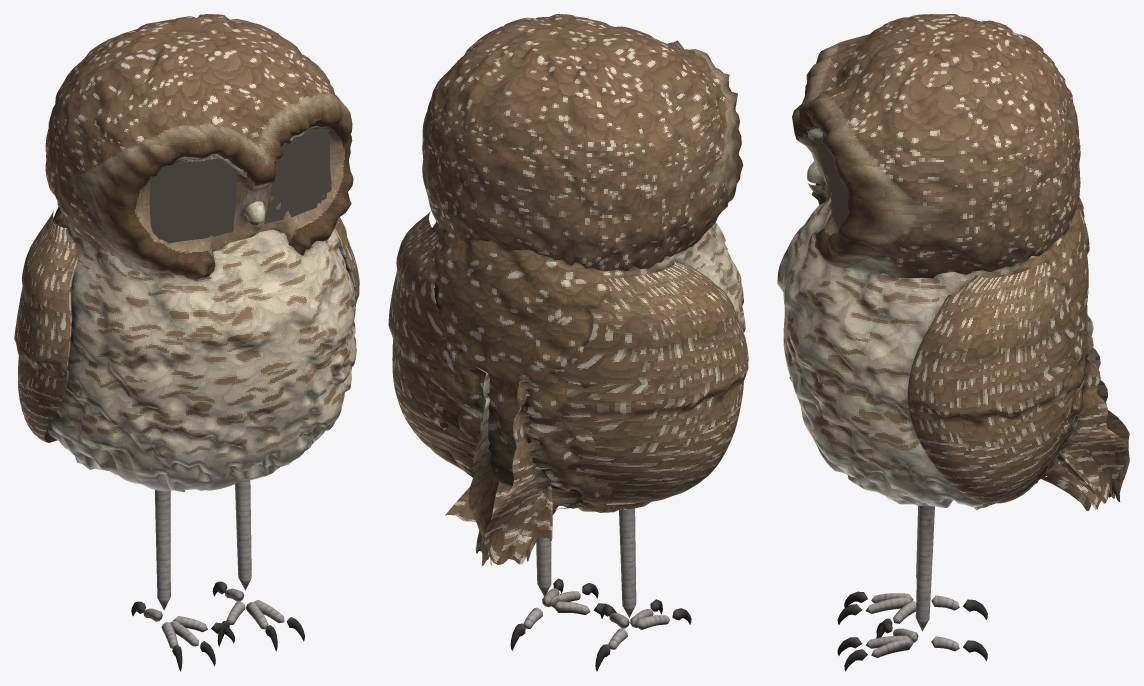
File: burrowing.glb
3 renders of one model, left to right at view 1: azimuth 30°, elevation 25°; view 2: azimuth 150°, elevation 25°; view 3: azimuth 270°, elevation 25°, orthographic. The views are drawn at different scales.
Parts seen in each view (by area): view 1: body_mesh, head_mesh, wing_l_mesh, eye_l, eye_r, leg_l_mesh, leg_r_mesh, wing_r_mesh; view 2: head_mesh, wing_l_mesh, body_mesh, wing_r_mesh, tail_mesh, leg_l_mesh, leg_r_mesh; view 3: head_mesh, wing_r_mesh, body_mesh, leg_r_mesh, eye_r, wing_l_mesh.
Part boxes in pixels (bbox=[...]): body_mesh: bbox=[47, 207, 356, 491]; head_mesh: bbox=[45, 14, 353, 279]; wing_l_mesh: bbox=[14, 210, 77, 442]; eye_l: bbox=[149, 159, 237, 243]; eye_r: bbox=[264, 128, 331, 223]; leg_l_mesh: bbox=[155, 490, 170, 610]; leg_r_mesh: bbox=[235, 478, 251, 590]; wing_r_mesh: bbox=[334, 217, 359, 318]; head_mesh: bbox=[422, 14, 743, 270]; wing_l_mesh: bbox=[481, 260, 748, 566]; body_mesh: bbox=[424, 221, 745, 512]; wing_r_mesh: bbox=[388, 211, 498, 565]; tail_mesh: bbox=[445, 482, 552, 541]; leg_l_mesh: bbox=[619, 508, 636, 617]; leg_r_mesh: bbox=[536, 537, 551, 596]; head_mesh: bbox=[792, 14, 1080, 278]; wing_r_mesh: bbox=[907, 263, 1127, 510]; body_mesh: bbox=[777, 196, 1089, 510]; leg_r_mesh: bbox=[915, 505, 934, 631]; eye_r: bbox=[820, 133, 849, 228]; wing_l_mesh: bbox=[1087, 314, 1129, 501].
Size of the model in its own units: 21.89 by 37.66 by 20.
2 materials, 1 textured.
